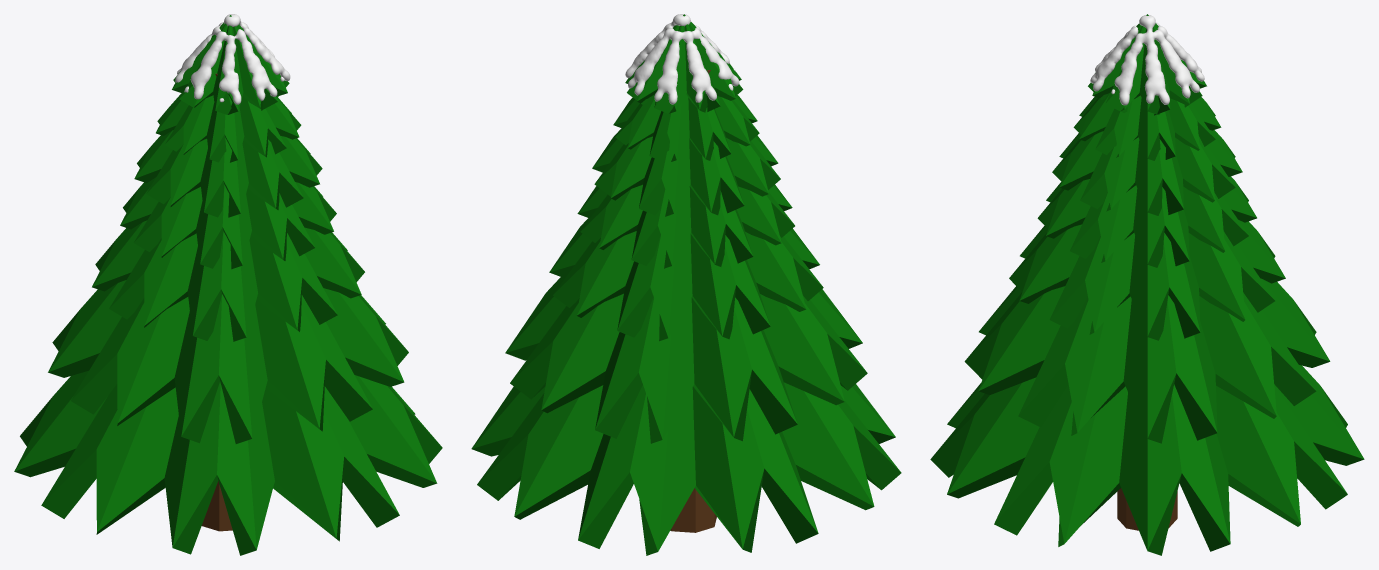
The model's file is ChrismasTree.fbx.
The picture shows the model from 3 angles, left to right: view 1: azimuth 30°, elevation 25°; view 2: azimuth 150°, elevation 25°; view 3: azimuth 270°, elevation 25°; orthographic projection.
Visible parts, largest first — view 1: Cylinder.001; view 2: Cylinder.001; view 3: Cylinder.001.
Boxes of the visible parts, bbox=[...] form: Cylinder.001: bbox=[14, 14, 442, 555]; Cylinder.001: bbox=[471, 14, 901, 555]; Cylinder.001: bbox=[930, 14, 1364, 555].
Size of the model in its own units: 526 by 677 by 526.
